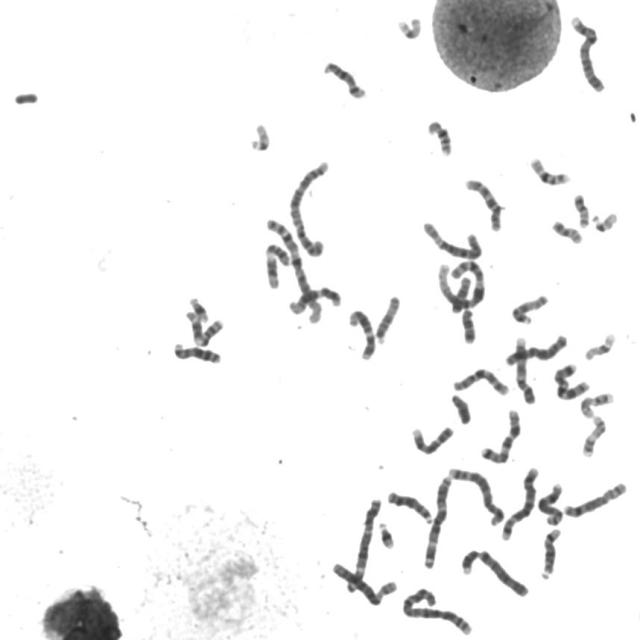A1: (262, 215, 324, 327), (435, 256, 487, 310)
A2: (285, 156, 333, 258), (398, 584, 474, 637)
A3: (342, 494, 383, 594), (420, 472, 454, 570)
B4: (458, 545, 531, 599), (567, 11, 607, 94)
B5: (444, 464, 506, 527), (498, 462, 541, 542)
C10: (462, 174, 504, 233), (450, 364, 512, 397)
C11: (181, 307, 225, 348), (261, 239, 293, 290)
C12: (286, 283, 344, 316), (345, 306, 378, 361)
C6: (328, 559, 398, 607), (419, 218, 484, 262)
C7: (477, 405, 523, 465), (551, 359, 592, 402)
C8: (561, 478, 630, 519), (535, 481, 565, 526)
C9: (510, 333, 538, 406), (408, 422, 456, 456)
D13: (384, 487, 434, 525), (170, 339, 223, 365)
D14: (320, 58, 367, 100), (536, 524, 564, 582)
D15: (372, 292, 402, 346), (508, 291, 551, 326)
E16: (526, 153, 572, 187), (423, 116, 455, 157)
E17: (579, 412, 608, 459), (578, 388, 616, 419)
E18: (448, 272, 474, 313), (458, 305, 478, 345)
F19: (582, 329, 618, 362), (393, 13, 424, 40)
F20: (548, 216, 585, 244), (570, 190, 592, 229)
G21: (185, 293, 211, 324), (375, 518, 396, 551)
G22: (247, 119, 272, 152), (589, 208, 620, 234)
X: (502, 330, 569, 367)
Y: (448, 390, 473, 426)
